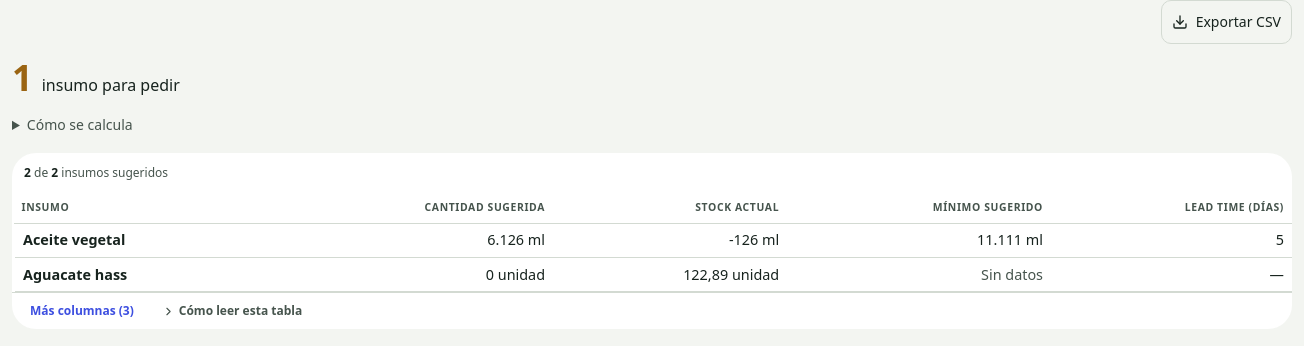
Test: ReplenishmentTab — el consumo diario con su historial real y su mediana (científico #17) › dice con cuántos días de historial se calculó y muestra la mediana junto al promedio, en es-CO
The width and height of the screenshot is (1304, 346).
Expected: the text "Sin datos" is shown, [981, 265, 1043, 284]
Consumo diario e historial son el cómo del cálculo: detrás de «Más columnas» (regla 3).
Click the button "Más columnas (3)": (82, 311) [24, 299, 140, 323]
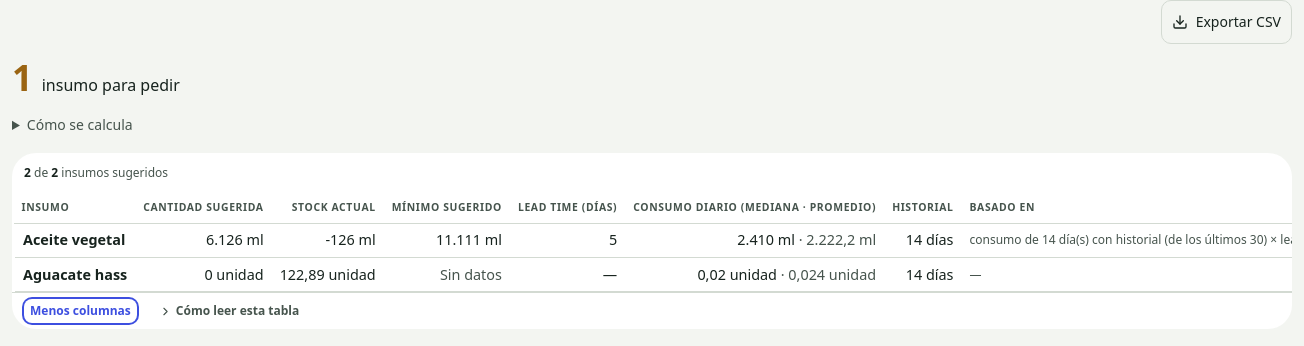
Expected: the text "2.410 ml · 2.222,2 ml" is shown, [737, 230, 876, 249]
Expected: the text "· 2.222,2 ml" is shown, [795, 230, 876, 249]
Expected: the text "14 días" in the row of "Aceite vegetal" is shown, [906, 230, 954, 249]
